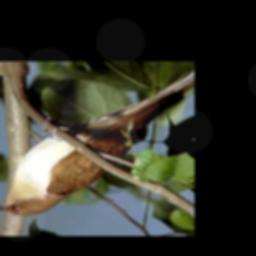Cuckoo: (0, 72, 194, 218)
